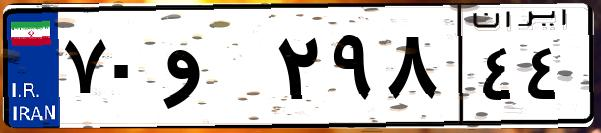0: (110, 28, 158, 98)
2: (270, 28, 330, 110)
4: (475, 38, 525, 113), (525, 38, 570, 115)
7: (57, 26, 110, 100)
8: (385, 28, 445, 110)
9: (330, 28, 385, 110)
و: (158, 20, 270, 120)
